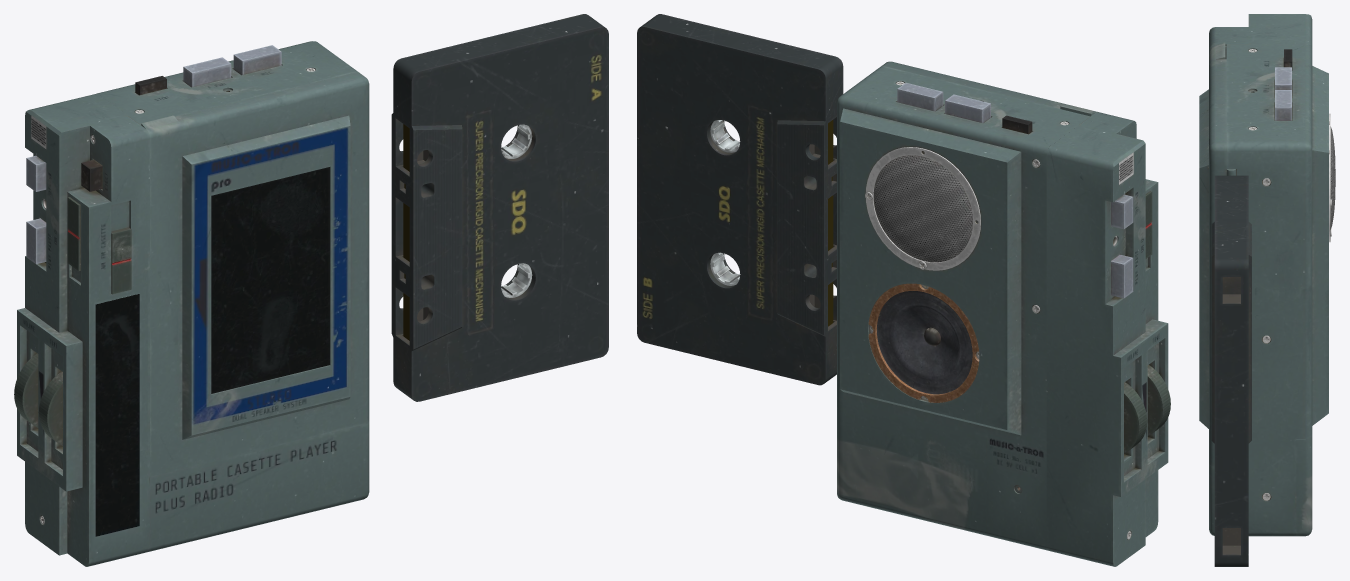
The model's file is portable-cassette-player.glb.
The picture shows the model from 3 angles, left to right: view 1: azimuth 30°, elevation 25°; view 2: azimuth 150°, elevation 25°; view 3: azimuth 270°, elevation 25°; orthographic projection. The views are drawn at different scales.
Visible parts, largest first — view 1: portable_cassette_player, portable_cassette_player_lid, portable_cassette_player_casette; view 2: portable_cassette_player, portable_cassette_player_casette, portable_cassette_player_lid; view 3: portable_cassette_player, portable_cassette_player_casette, portable_cassette_player_lid.
Part boxes in pixels (x1=…): portable_cassette_player: x1=14, y1=41, x2=369, y2=566; portable_cassette_player_lid: x1=141, y1=72, x2=369, y2=476; portable_cassette_player_casette: x1=391, y1=14, x2=608, y2=401; portable_cassette_player: x1=837, y1=66, x2=1170, y2=566; portable_cassette_player_casette: x1=637, y1=14, x2=843, y2=385; portable_cassette_player_lid: x1=881, y1=61, x2=1097, y2=116; portable_cassette_player: x1=1209, y1=14, x2=1335, y2=536; portable_cassette_player_casette: x1=1211, y1=175, x2=1251, y2=566; portable_cassette_player_lid: x1=1199, y1=42, x2=1235, y2=466.
Bounding box in the file's own units: 0.1723 × 0.1303 × 0.0397.
2 materials, 2 textured.
